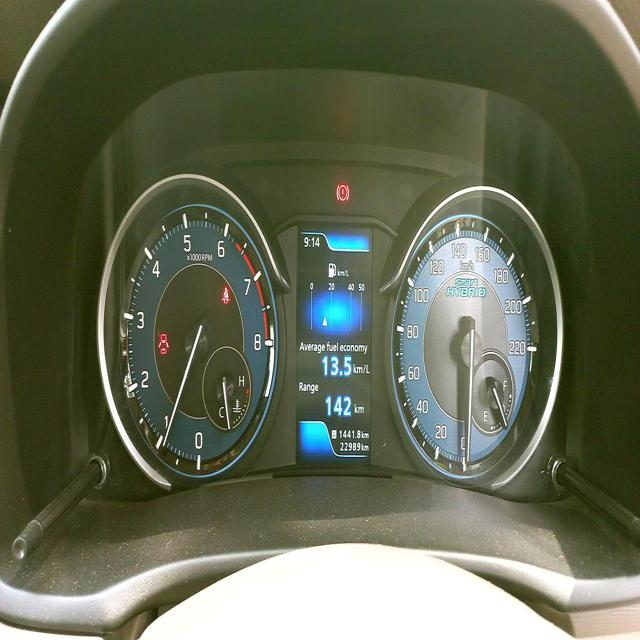odometer: (336, 439, 361, 455)
